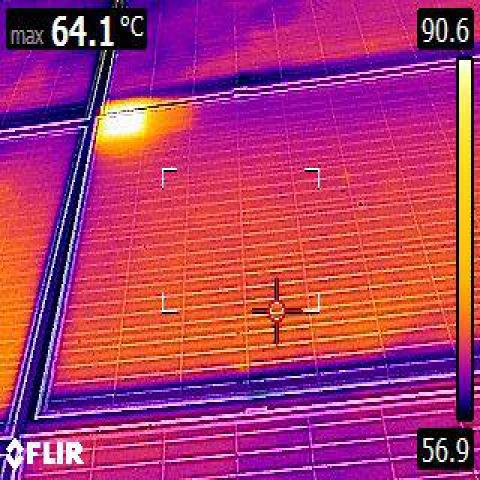fault: (101, 113, 141, 139)
